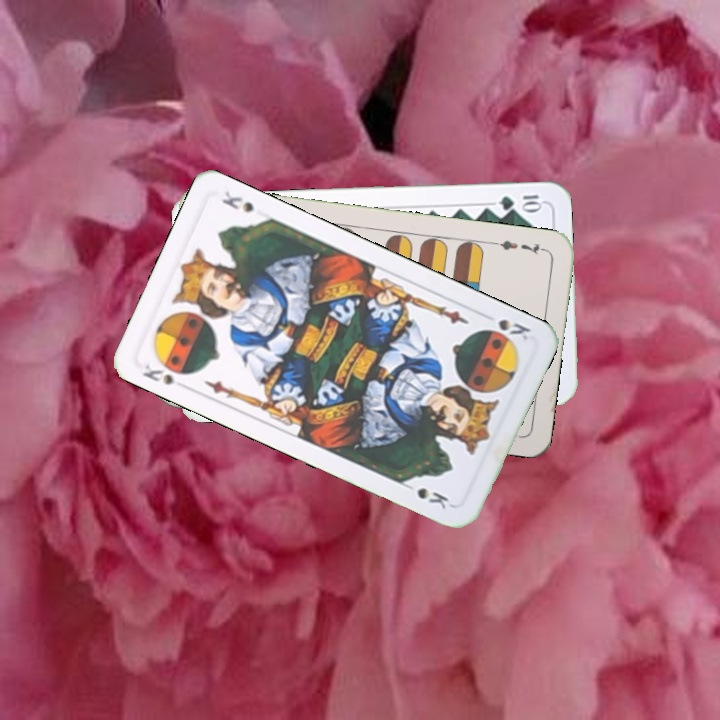E7: (490, 236, 549, 257)
G10: (496, 191, 545, 213)
SK: (138, 357, 193, 393), (478, 309, 533, 343)
